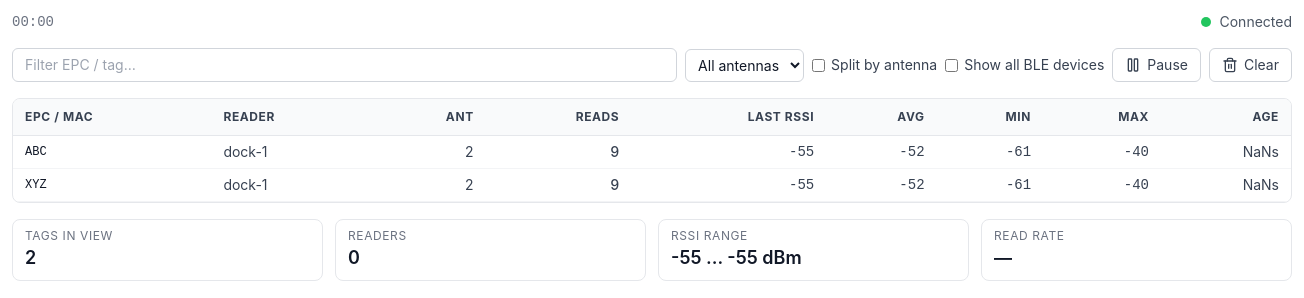
Scenario: LiveReadsFeed › Clear resets the EPC filter text (TRA-999)
Type "abc" into the search field with placeholder "Filter EPC / tag…".
click(345, 65); type("abc")  # box [12,48,677,82]
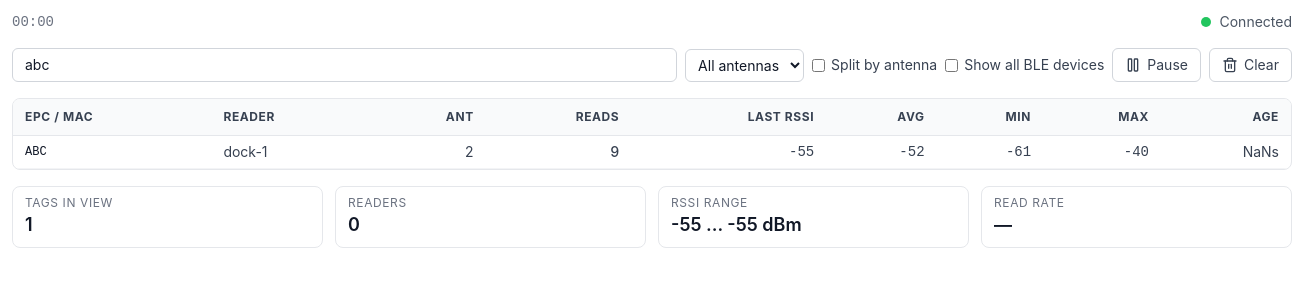
Check: the text "XYZ" is gone
Click the button "Clear".
click(1250, 65)  # box [1209,48,1292,82]
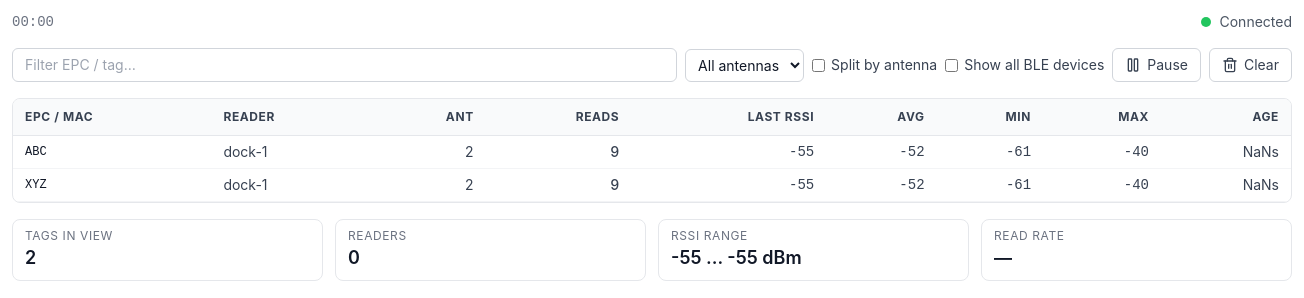
Check: the search field with placeholder "Filter EPC / tag…" is empty, box [12,48,677,82]
Check: the text "XYZ" is shown, box [13,168,211,202]
